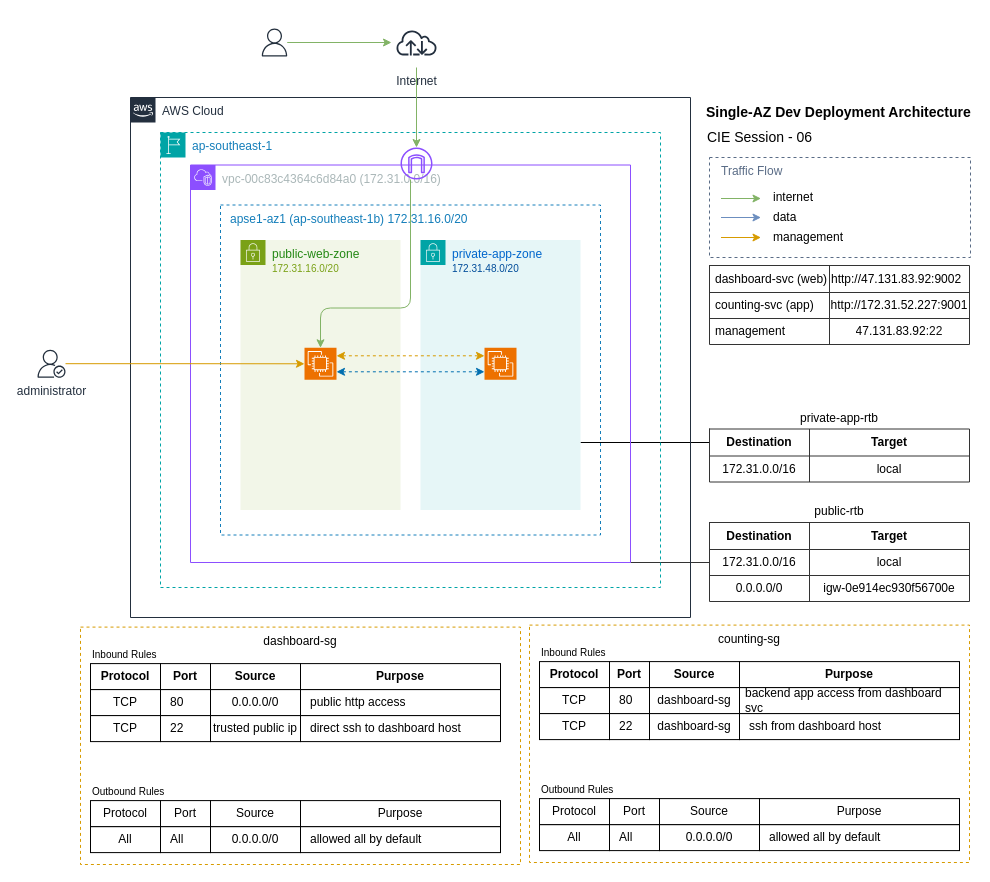
Image size: 990x882. Some labels were removed from this diagram. The shapes that lost their labels are listed below. From the top down, each one's centre as x and y in pixels, then its label:
[274,42]: user
[320,363]: dashboard-service (web) 47.131.83.92 172.31.20.34
[500,363]: counting-service (app)
